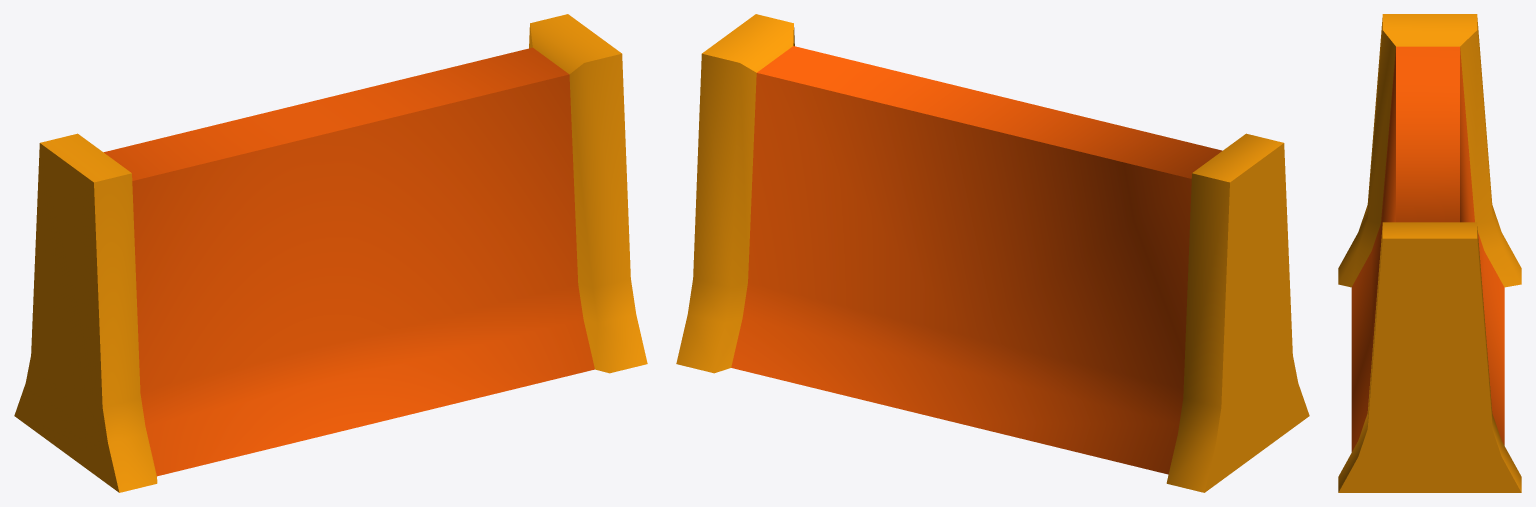
File: IG Warning.fbx
The picture shows the model from 3 angles, left to right: view 1: azimuth 30°, elevation 25°; view 2: azimuth 150°, elevation 25°; view 3: azimuth 270°, elevation 25°; orthographic projection. The views are drawn at different scales.
Parts seen in each view (by area): view 1: Box007; view 2: Box007; view 3: Box007.
Part boxes in pixels (x1,y1,x2,y2): Box007: (14, 14, 647, 492); Box007: (676, 14, 1309, 492); Box007: (1338, 14, 1521, 492).
Size of the model in its own units: 400 by 211 by 138.
